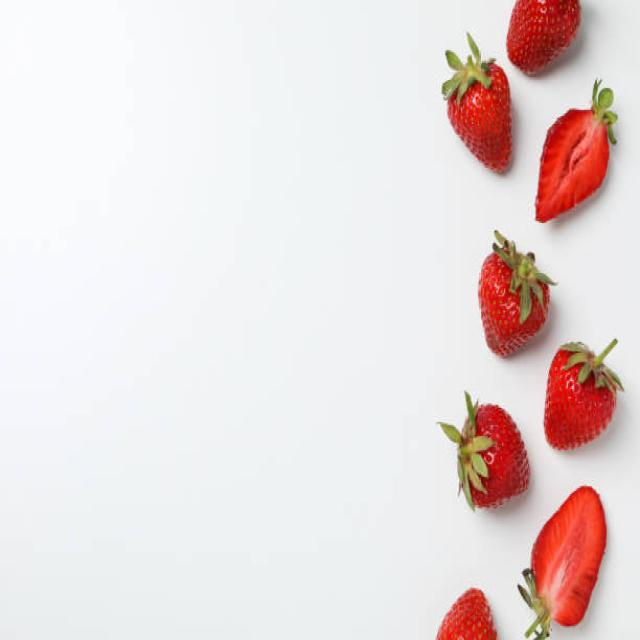Healthy Fruit: (477, 249, 550, 360), (542, 342, 614, 449), (445, 61, 513, 172), (460, 401, 531, 506)
